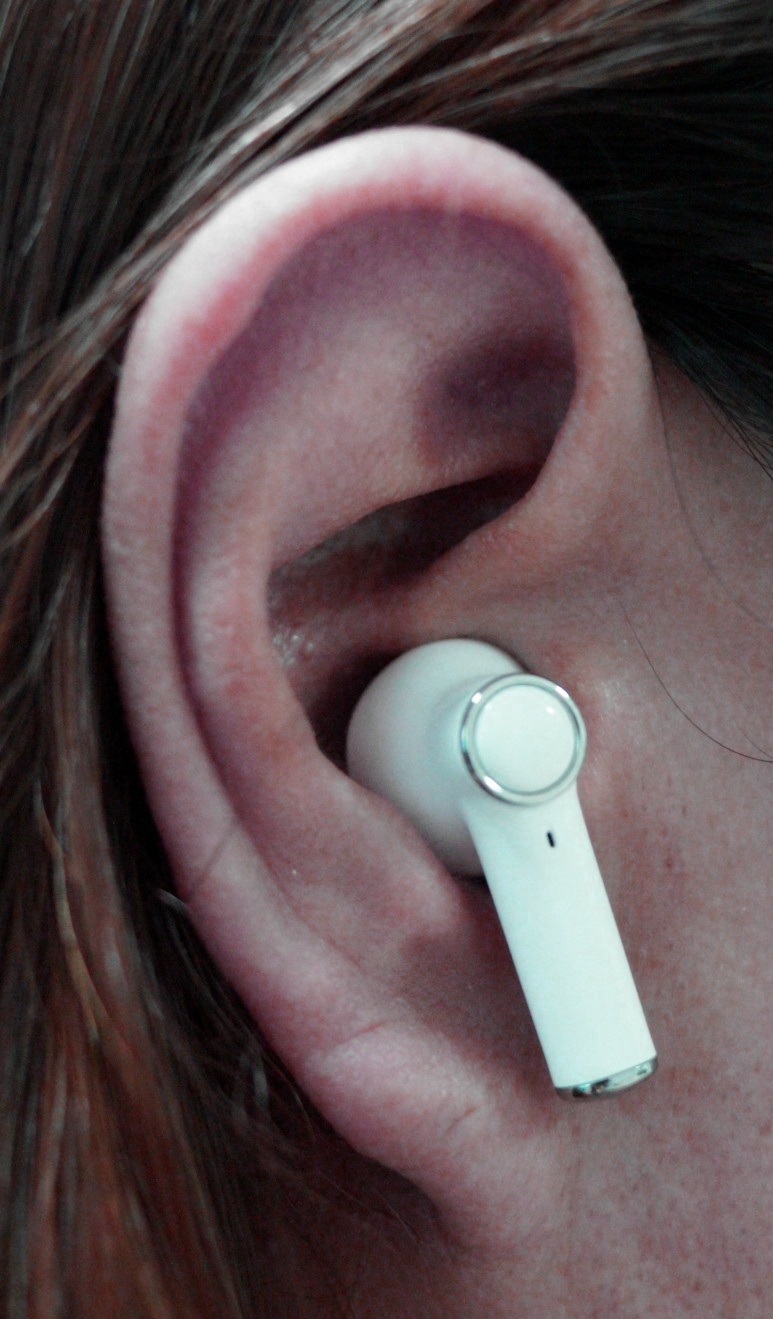earphone: (101, 124, 664, 1243)
